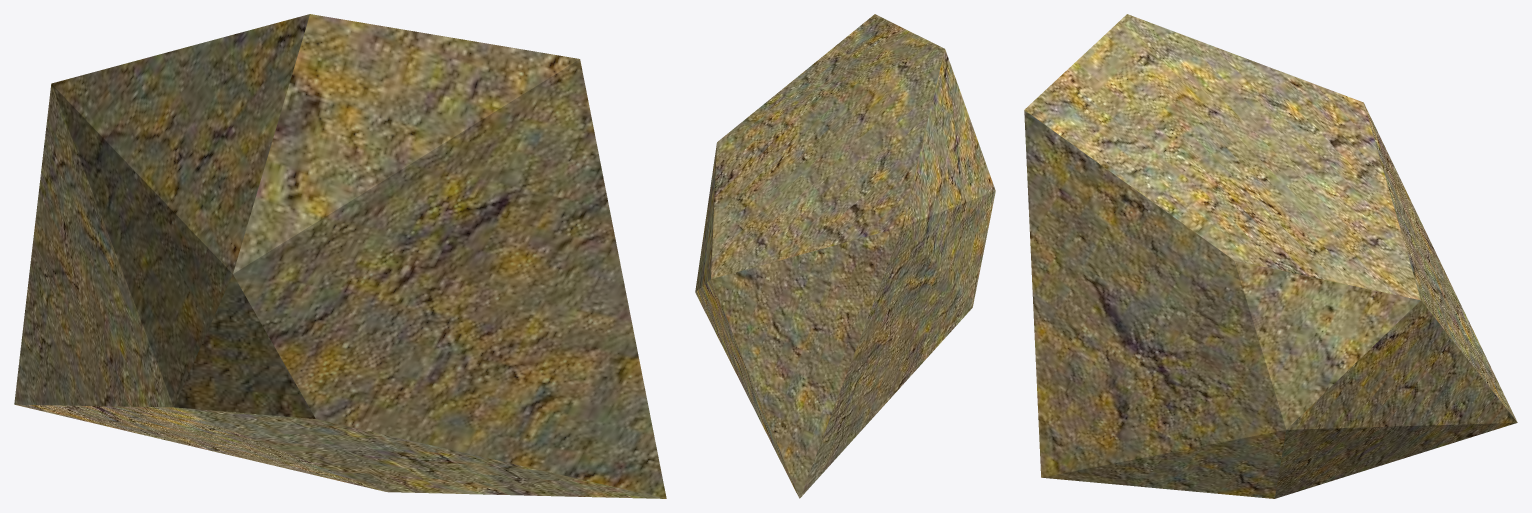
The model's file is rock6.fbx.
The picture shows the model from 3 angles, left to right: view 1: azimuth 30°, elevation 25°; view 2: azimuth 150°, elevation 25°; view 3: azimuth 270°, elevation 25°; orthographic projection. The views are drawn at different scales.
Visible parts, largest first — view 1: Rock6; view 2: Rock6; view 3: Rock6.
Boxes of the visible parts, x1,y1,x2,y2 form: Rock6: (14,14,666,498); Rock6: (695,14,995,498); Rock6: (1024,14,1517,498).
Bounding box in the file's own units: 9.25 × 12.55 × 13.28.
